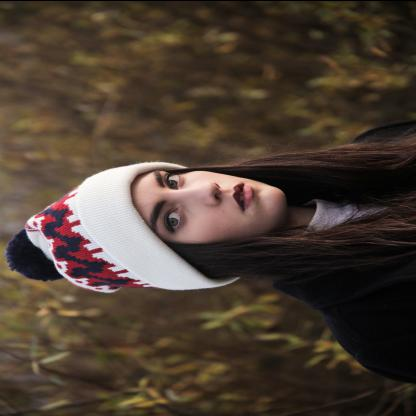Eye: (160, 204, 186, 233), (162, 168, 184, 192)
Mouth: (223, 181, 260, 211)
Nose: (174, 180, 224, 206)
